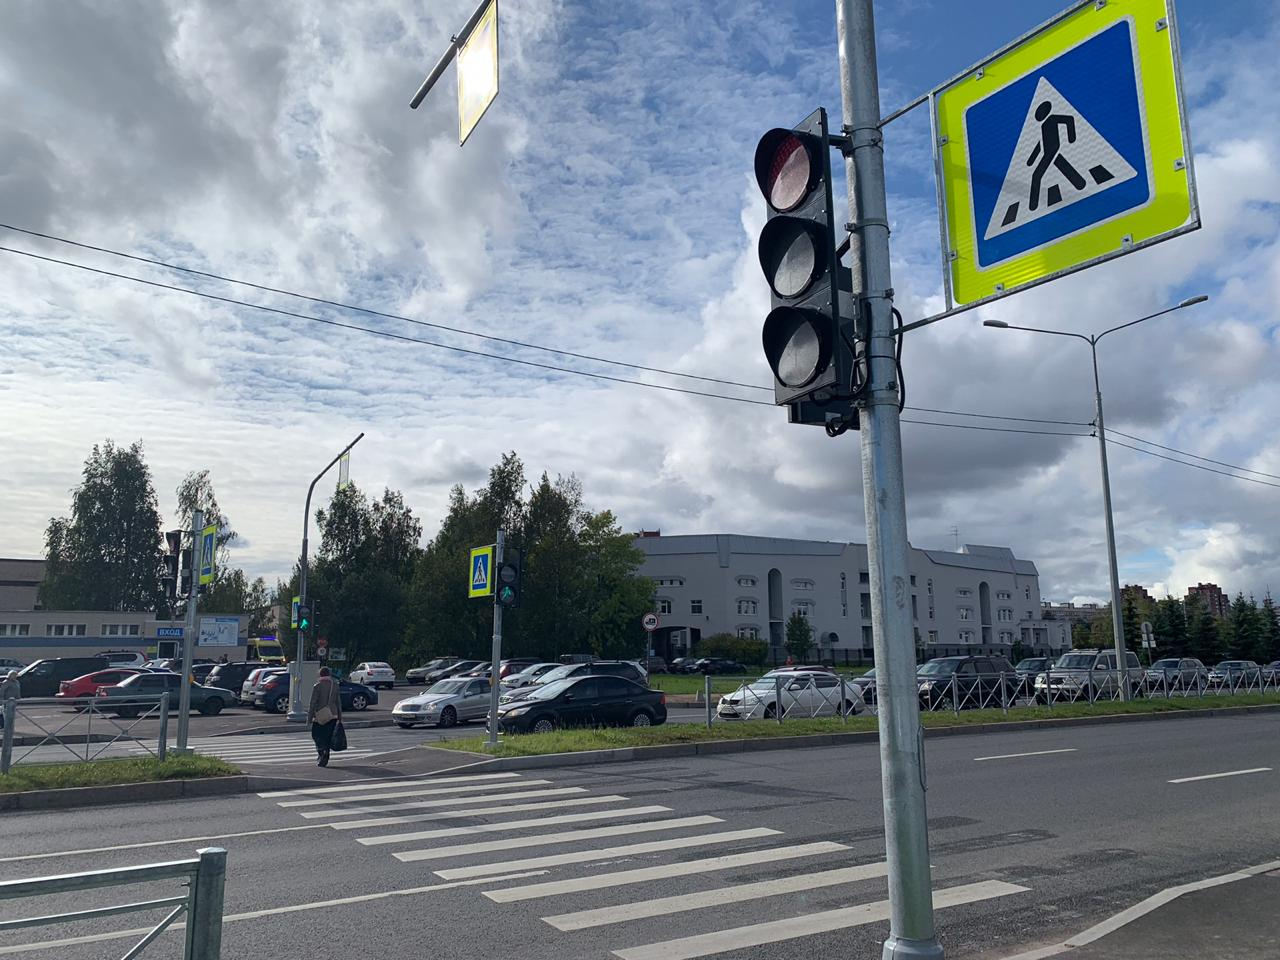tl: (751, 106, 870, 435)
